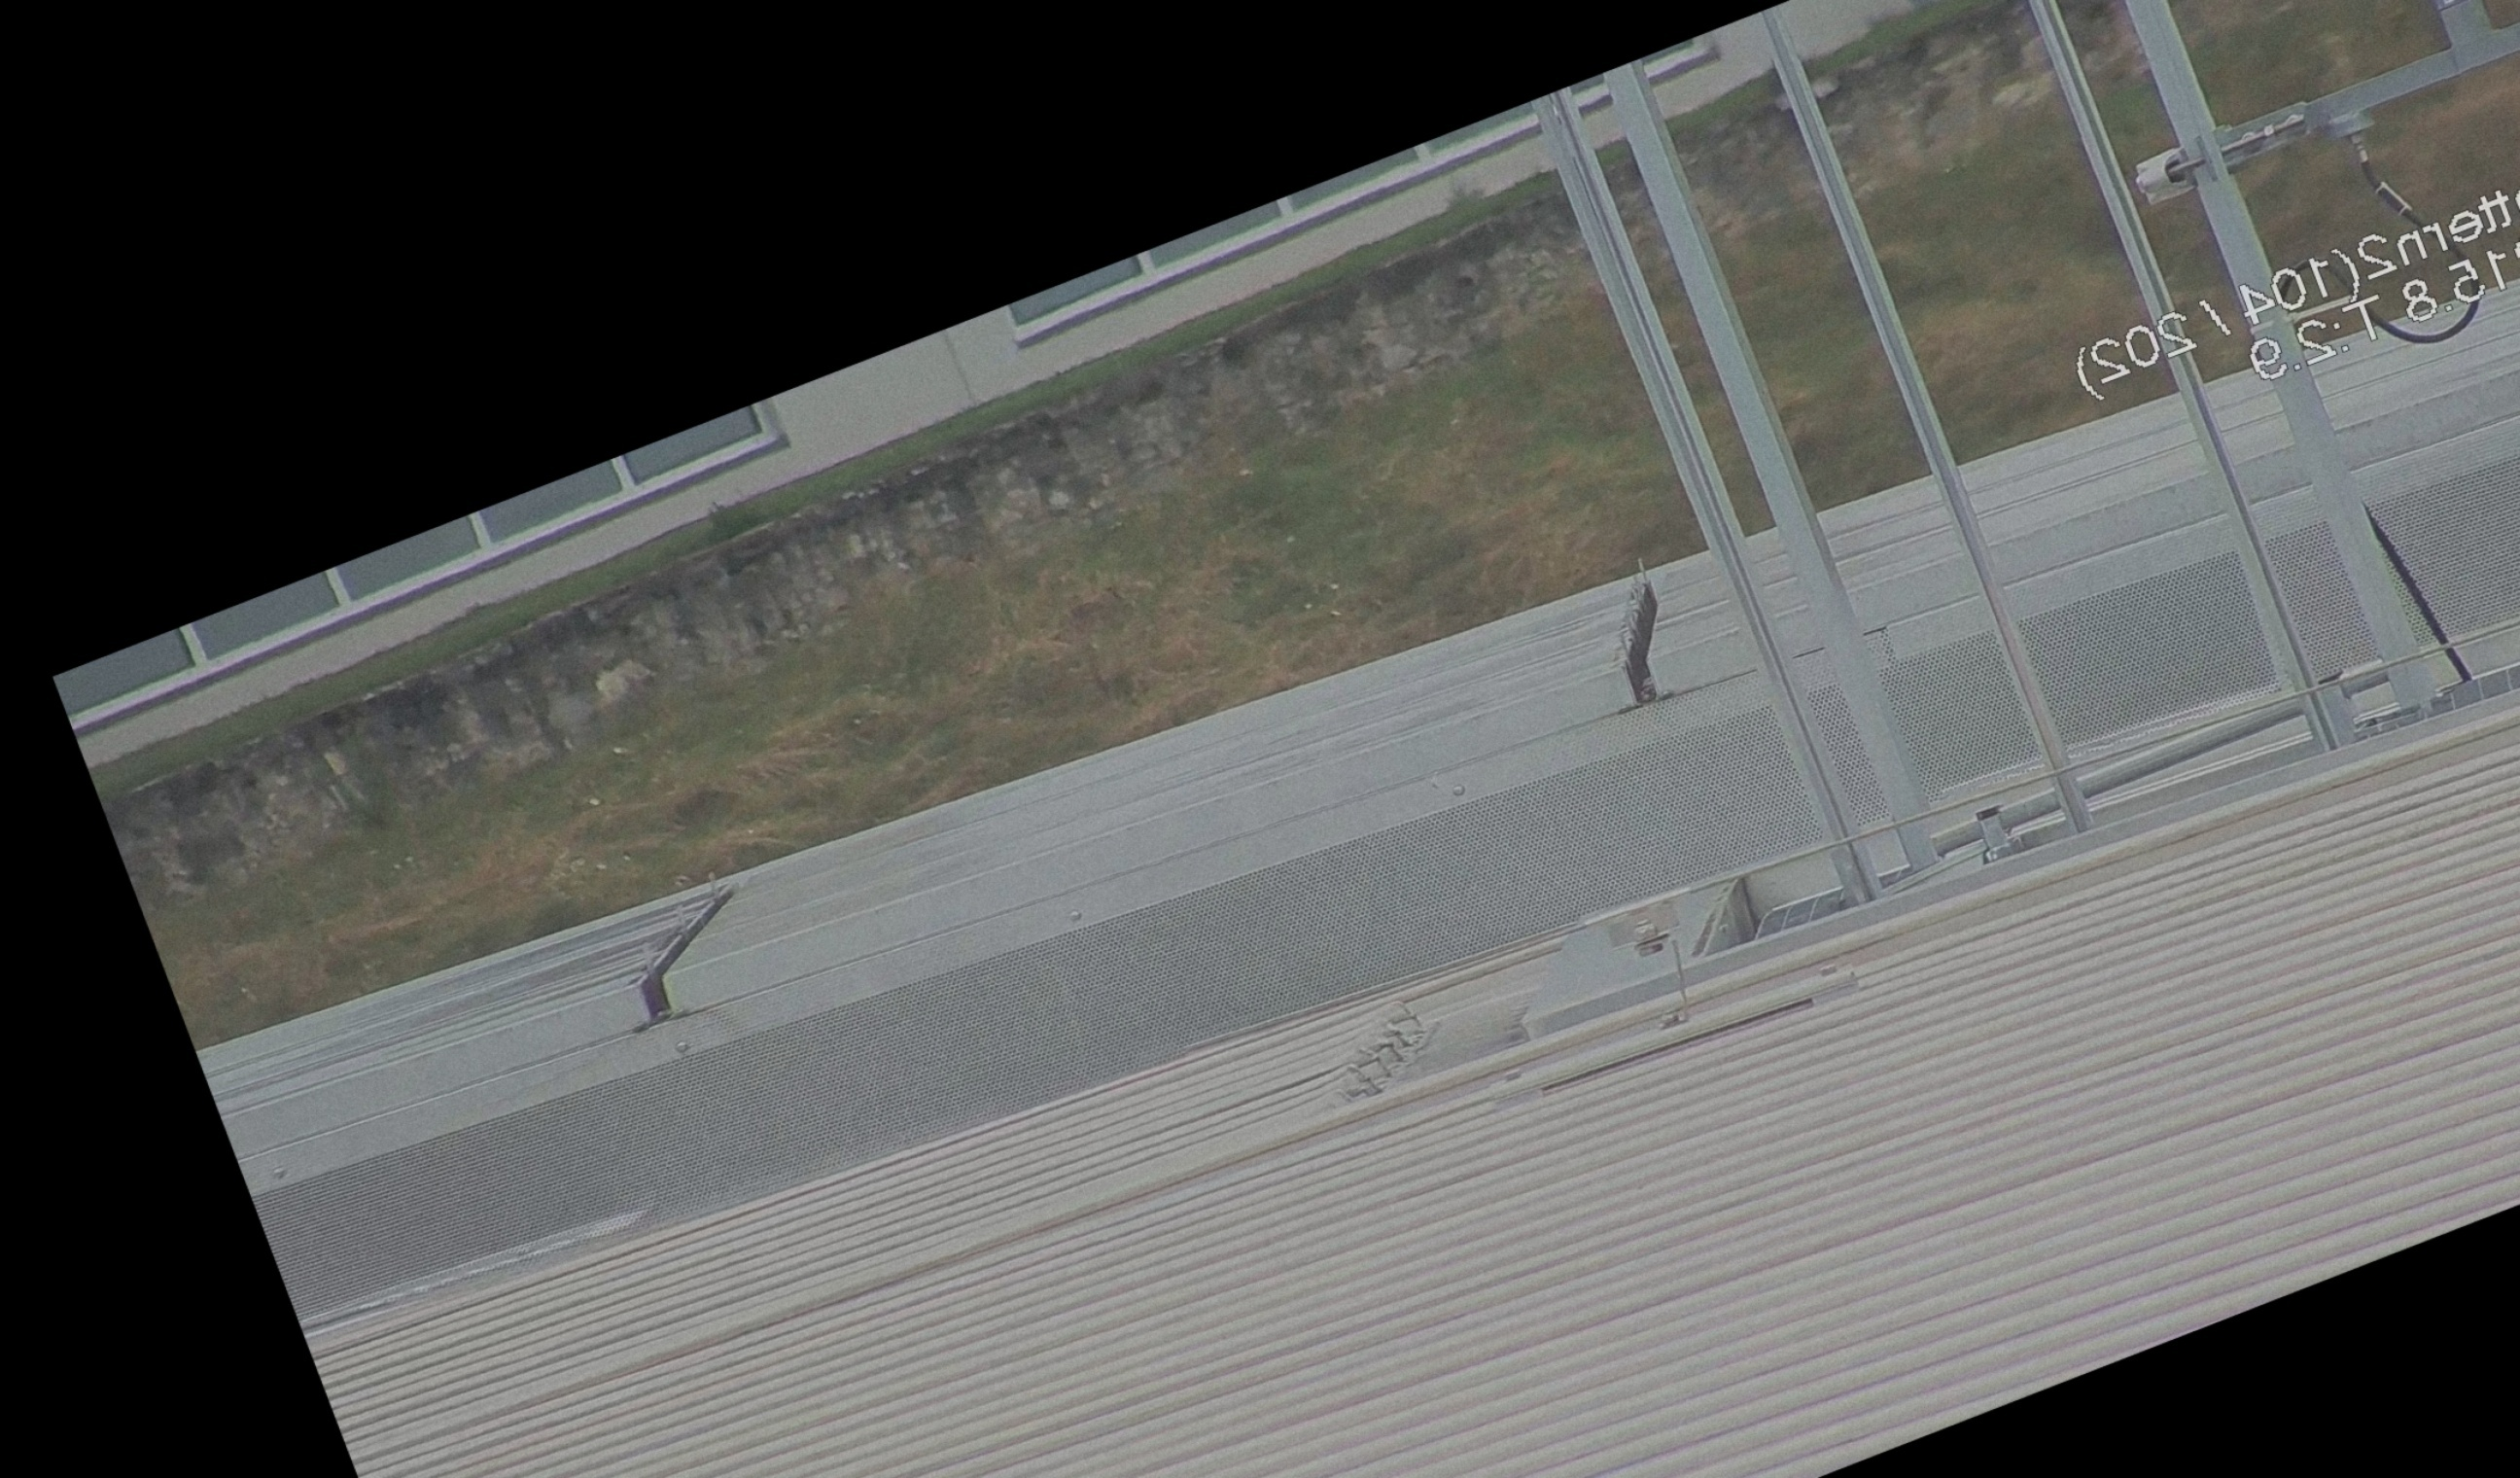Other: (1567, 552, 1708, 718)
